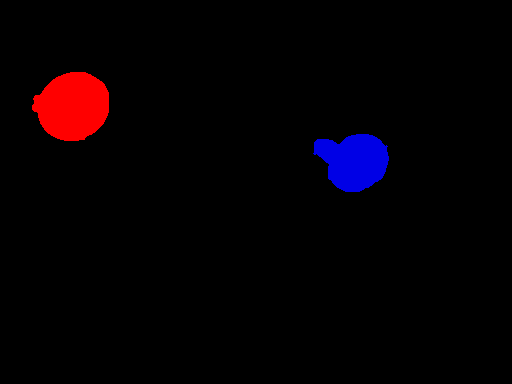cup: (313, 131, 389, 195)
speaker: (31, 71, 113, 143)
